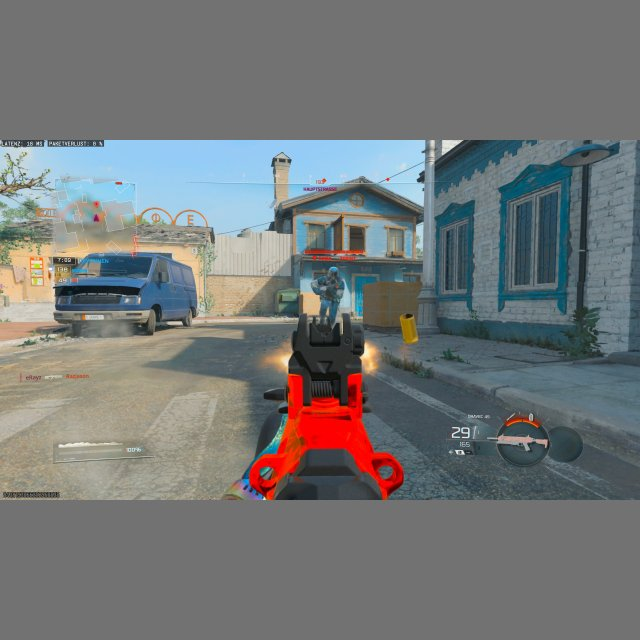head: (328, 266, 339, 280)
player: (312, 266, 346, 325)
